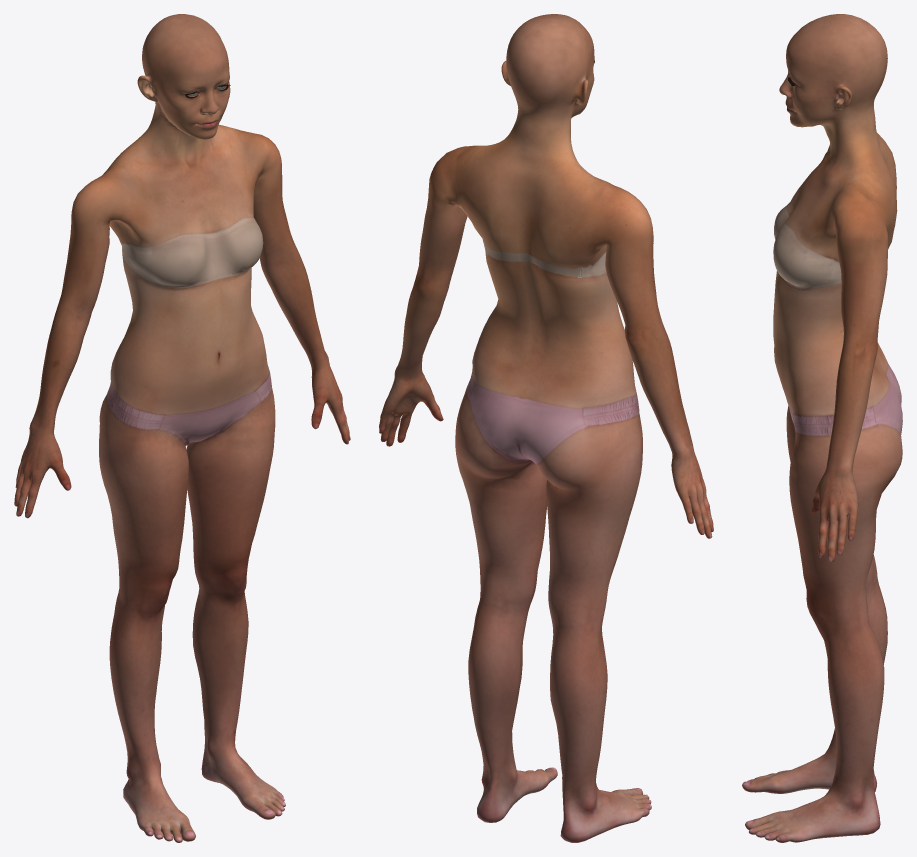
File: AsianFem1.obj
3 views of the same model, side by side, from view 1: azimuth 30°, elevation 25°; view 2: azimuth 150°, elevation 25°; view 3: azimuth 270°, elevation 25° (orthographic). The views are drawn at different scales.
Visible parts, largest first — view 1: Body; view 2: Body; view 3: Body.
Part boxes in pixels (x1,y1,x2,y2): Body: [14, 14, 350, 842]; Body: [379, 14, 713, 842]; Body: [742, 14, 902, 842].
Bounding box in the file's own units: 71.37 × 163 × 30.02.
Materials: 1 (1 with a texture image).
